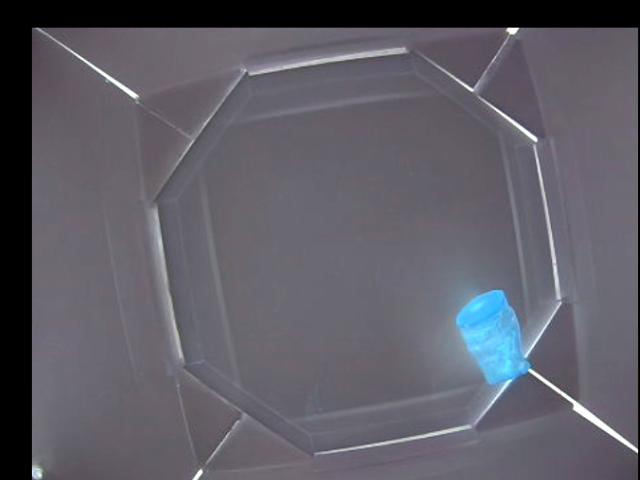Carrot: (458, 289, 532, 383)
